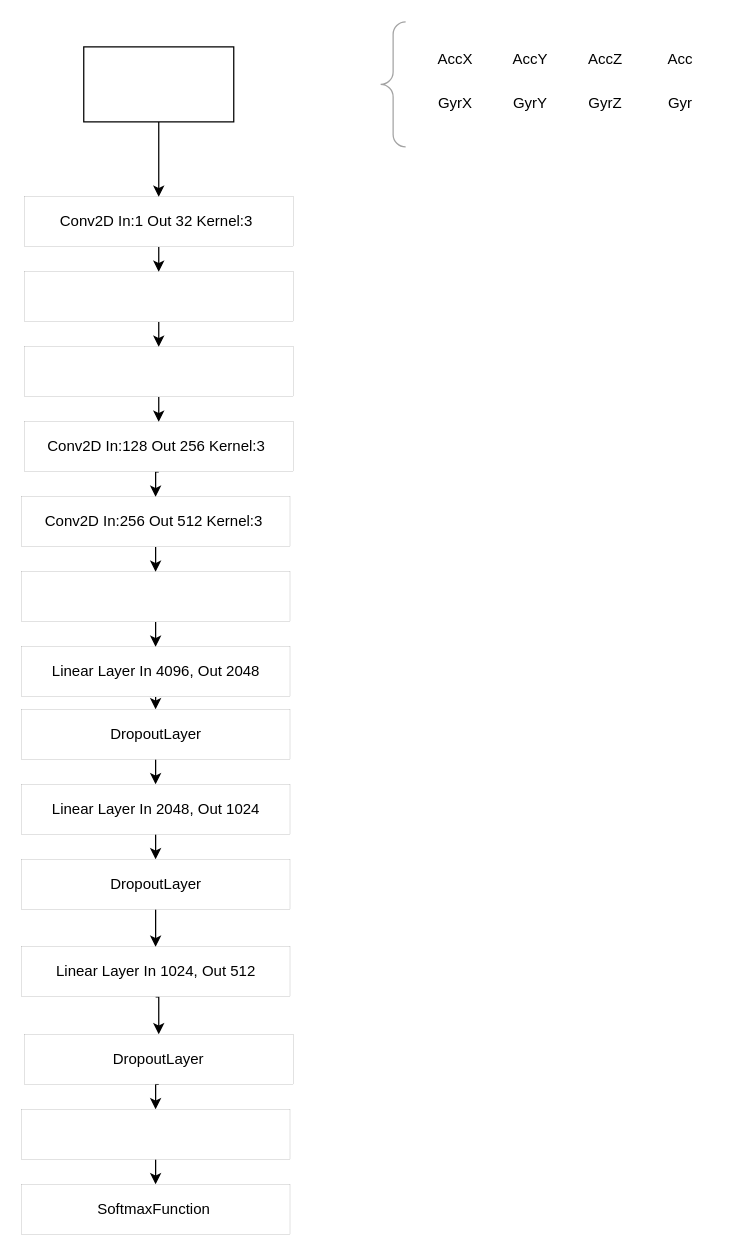
The diagram is 740 pixels wide and 1256 high, and some of its shapes have lost their labels. The centre of each missing label's shape, as x and y in pixels:
Conv2D In:32 Out 64 Kernel:3: point 158,296
Conv2D In:64 Out 128 Kernel:3: point 158,371
Flatten Layer: point 155,596
Input dataset: point 158,84
Linear Layer In 512, Out 3: point 155,1134
